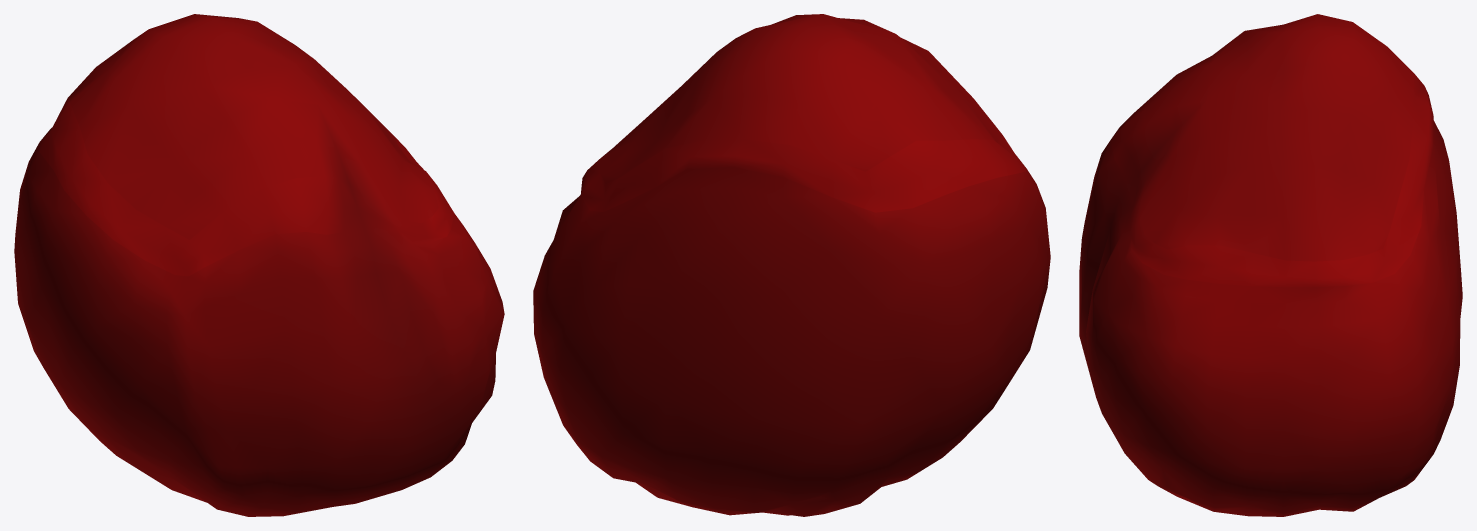
File: geology-rocks-rocklarge_v8.fbx
3 renders of one model, left to right at view 1: azimuth 30°, elevation 25°; view 2: azimuth 150°, elevation 25°; view 3: azimuth 270°, elevation 25°, orthographic. The views are drawn at different scales.
Visible parts, largest first — view 1: RockLarge_v8; view 2: RockLarge_v8; view 3: RockLarge_v8.
Boxes of the visible parts, bbox=[...] form: RockLarge_v8: bbox=[14, 14, 504, 516]; RockLarge_v8: bbox=[533, 14, 1050, 516]; RockLarge_v8: bbox=[1079, 14, 1462, 516].
Bounding box in the file's own units: 8.52 × 8.68 × 7.15.
